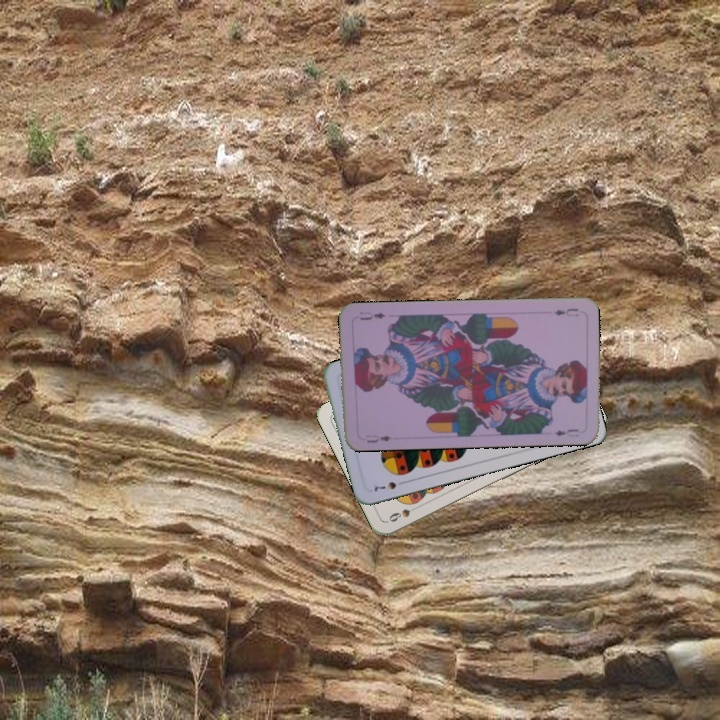EU: (550, 304, 581, 319), (362, 431, 394, 445)
S7: (370, 477, 408, 494)
S9: (385, 501, 422, 524)
